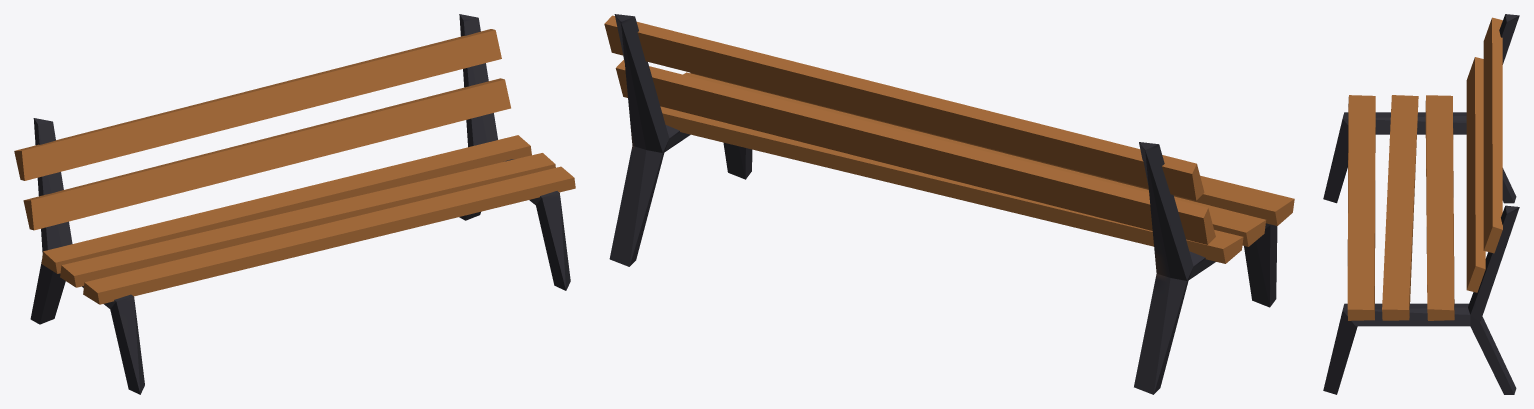
The model's file is bench.fbx.
3 renders of one model, left to right at view 1: azimuth 30°, elevation 25°; view 2: azimuth 150°, elevation 25°; view 3: azimuth 270°, elevation 25°, orthographic. The views are drawn at different scales.
Parts seen in each view (by area): view 1: Cube; view 2: Cube; view 3: Cube.
Part boxes in pixels (x1=…): Cube: x1=14, y1=14, x2=575, y2=394; Cube: x1=604, y1=14, x2=1294, y2=394; Cube: x1=1323, y1=14, x2=1519, y2=394.
Bounding box in the file's own units: 425 × 169 × 164.
Materials: 1 (1 with a texture image).
